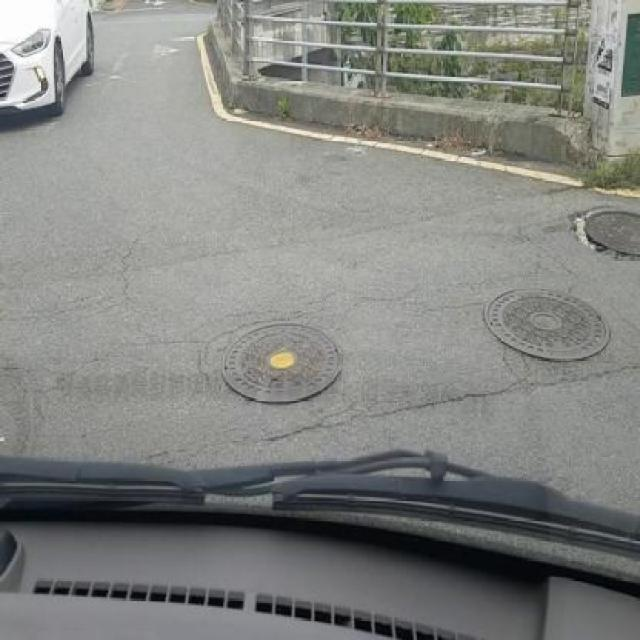Manhole: (214, 322, 346, 406), (488, 287, 610, 362), (566, 205, 640, 264)
